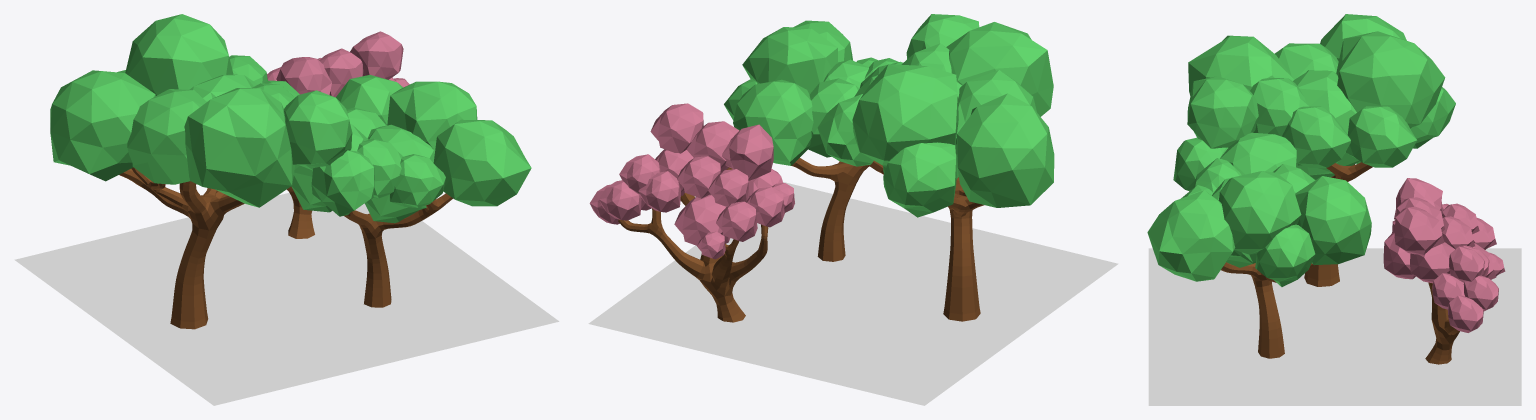
The model's file is LowpolyTrees.fbx.
3 renders of one model, left to right at view 1: azimuth 30°, elevation 25°; view 2: azimuth 150°, elevation 25°; view 3: azimuth 270°, elevation 25°, orthographic. The views are drawn at different scales.
Visible parts, largest first — view 1: Plane.001, Icosphere, Icosphere.002, Plane, Icosphere.001, Plane.003, Plane.002; view 2: Plane.001, Icosphere, Icosphere.001, Icosphere.002, Plane.002, Plane, Plane.003; view 3: Plane.001, Icosphere, Icosphere.002, Icosphere.001, Plane.003, Plane.002, Plane.
Part boxes in pixels (left/top/right/bottom): Plane.001: left=14, top=192, right=559, bottom=405; Icosphere: left=50, top=14, right=352, bottom=207; Icosphere.002: left=291, top=75, right=531, bottom=223; Plane: left=119, top=167, right=244, bottom=329; Icosphere.001: left=267, top=31, right=409, bottom=97; Plane.003: left=344, top=193, right=452, bottom=307; Plane.002: left=287, top=186, right=314, bottom=238; Plane.001: left=588, top=182, right=1118, bottom=405; Icosphere: left=817, top=14, right=1054, bottom=217; Icosphere.001: left=589, top=103, right=794, bottom=259; Icosphere.002: left=724, top=20, right=902, bottom=165; Plane.002: left=618, top=167, right=768, bottom=322; Plane: left=868, top=160, right=984, bottom=321; Plane.003: left=791, top=158, right=869, bottom=261; Plane.001: left=1148, top=248, right=1521, bottom=405; Icosphere: left=1187, top=14, right=1455, bottom=179; Icosphere.002: left=1147, top=132, right=1371, bottom=286; Icosphere.001: left=1383, top=178, right=1505, bottom=332; Plane.003: left=1221, top=262, right=1316, bottom=358; Plane.002: left=1425, top=282, right=1459, bottom=364; Plane: left=1304, top=162, right=1372, bottom=286.
Bounding box in the file's own units: 1205 × 814 × 1013.
